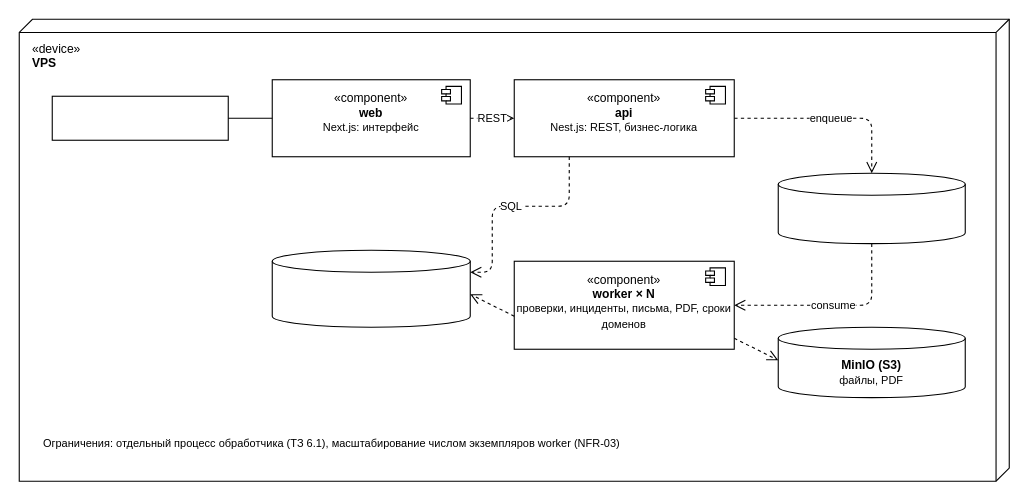
Image size: 1029x501. Some labels were removed from this diagram. Here are the shapes that lost their labels. From the top down, the box of each, then its label:
(51, 95, 228, 140): Caddy (TLS)
(777, 172, 965, 244): Redis 7 очереди BullMQ
(271, 249, 470, 327): PostgreSQL 16 данные
